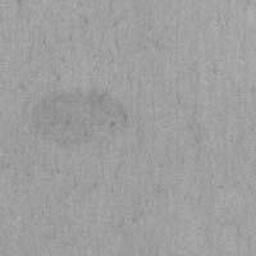Oil spot: (27, 86, 132, 159)
